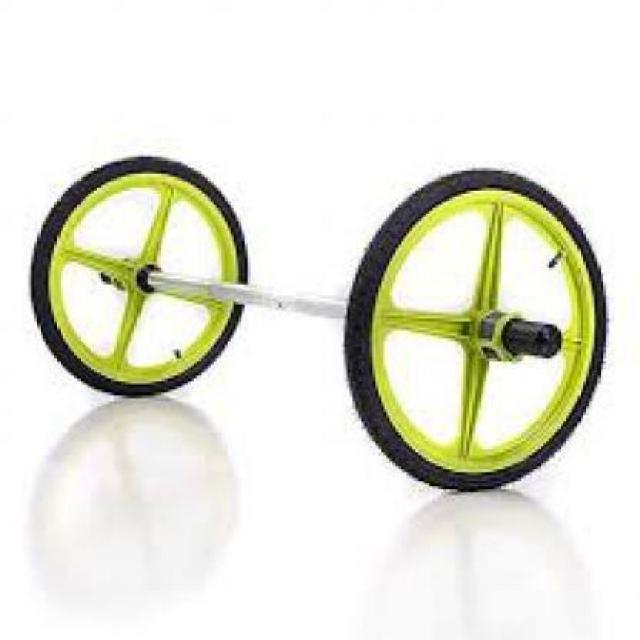Barbell: (528, 310, 574, 367)
